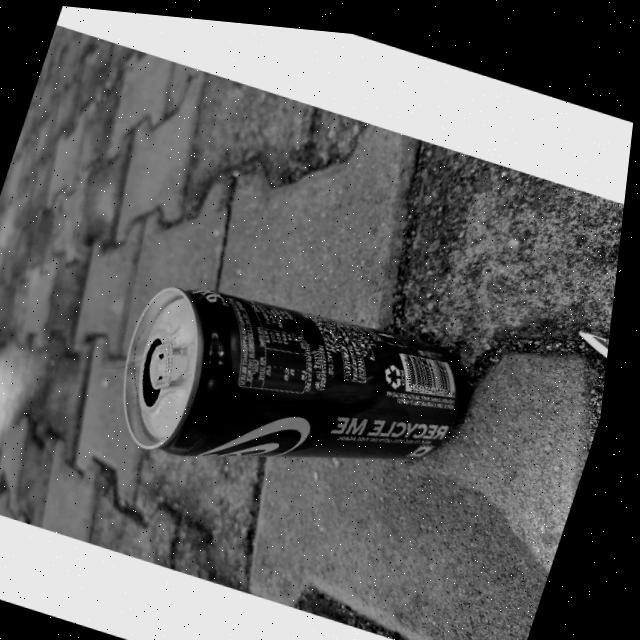Coca Cola: (101, 244, 494, 531)
